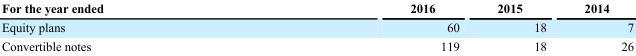table: (0, 0, 633, 52)
table column: (0, 0, 256, 52), (256, 0, 477, 52), (477, 0, 564, 52), (564, 0, 633, 52)
table column header: (0, 0, 633, 17)
table row: (0, 17, 633, 36), (0, 0, 633, 17), (0, 36, 633, 52)
